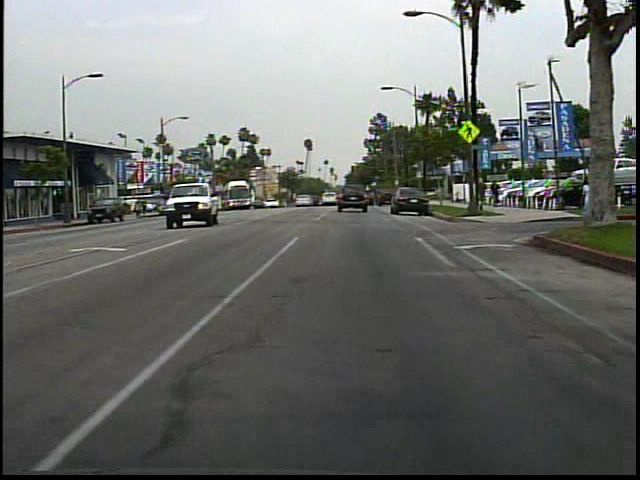person: (576, 173, 601, 228)
